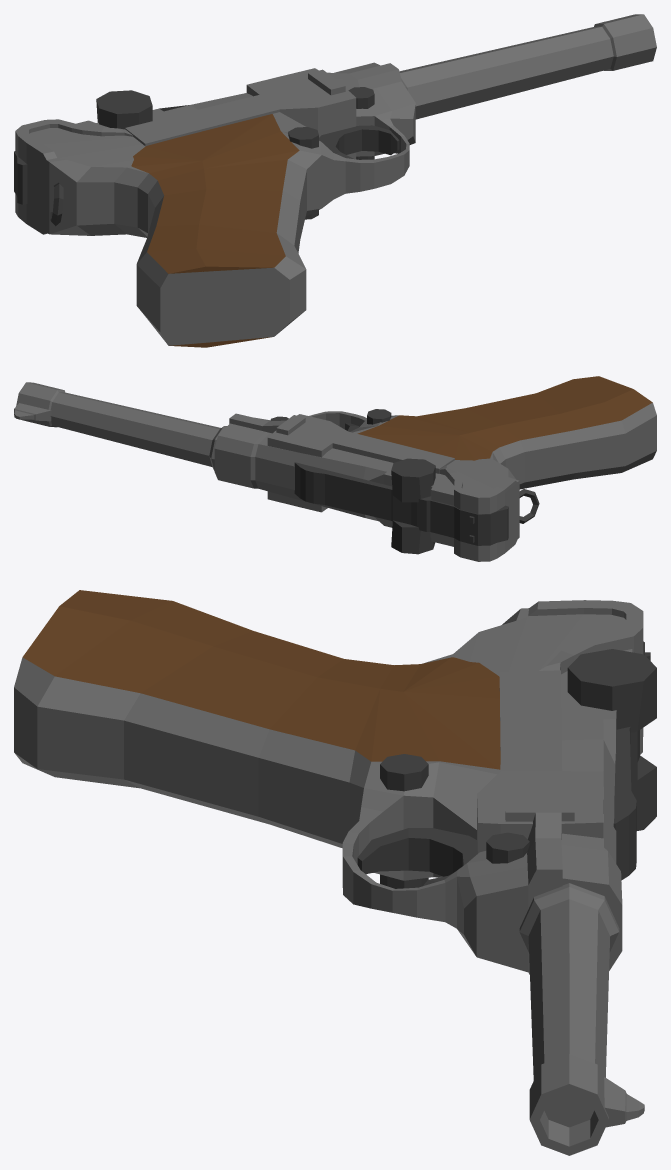
The model's file is Luger_3D.glb.
3 renders of one model, top to bottom at view 1: azimuth 30°, elevation 25°; view 2: azimuth 150°, elevation 25°; view 3: azimuth 270°, elevation 25°, orthographic. The views are drawn at different scales.
Parts seen in each view (by area): view 1: Cube; view 2: Cube; view 3: Cube.
Part boxes in pixels (box(x1,y1,x2,y2)): Cube: box(14, 14, 656, 347); Cube: box(14, 376, 656, 561); Cube: box(14, 590, 656, 1155).
Bounding box in the file's own units: 0.3362 × 0.0487 × 0.1904.
1 material, 1 textured.
